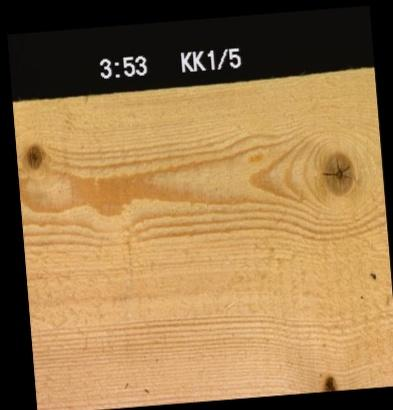edge_knot: (320, 373, 338, 390)
sound_knot: (319, 149, 355, 196), (23, 140, 45, 169)
